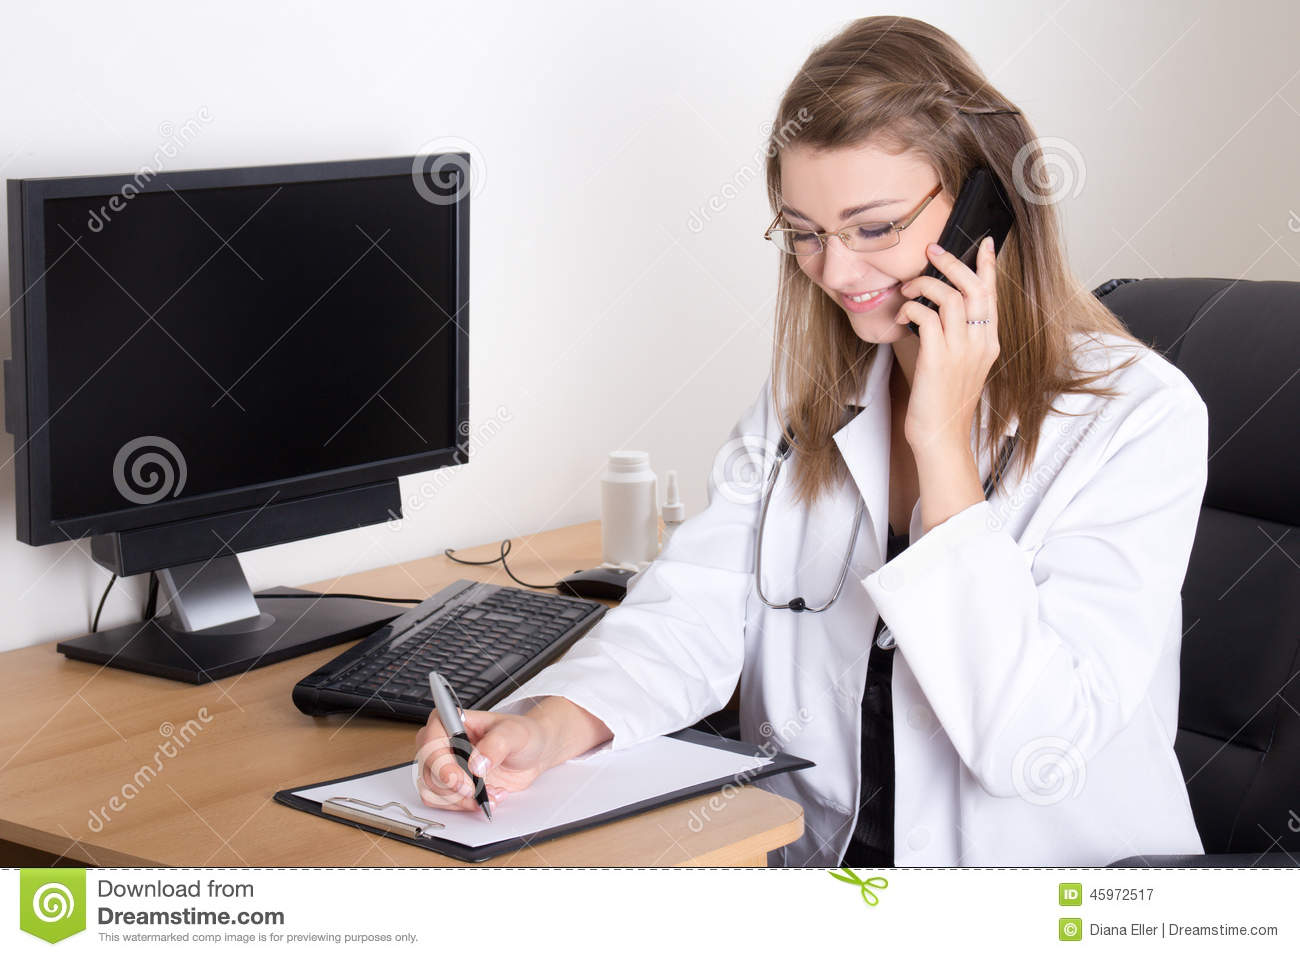phone: (909, 164, 1016, 354)
talk: (783, 155, 1014, 480)
